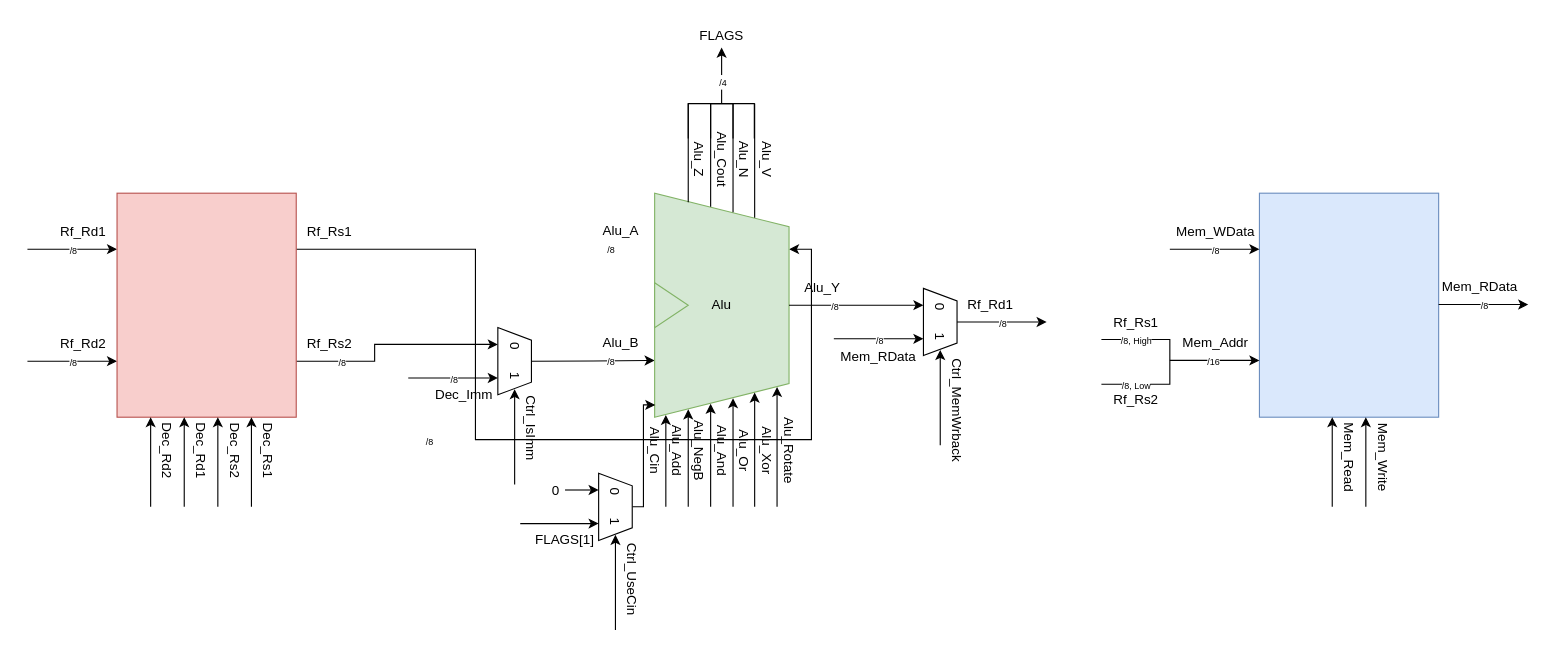
Some shapes in this 1557 by 659 pixel diagram are drawn without their labels. Each missing label, with the centre of its shape:
Memory: the point at 1348,304
Register File: the point at 206,304
